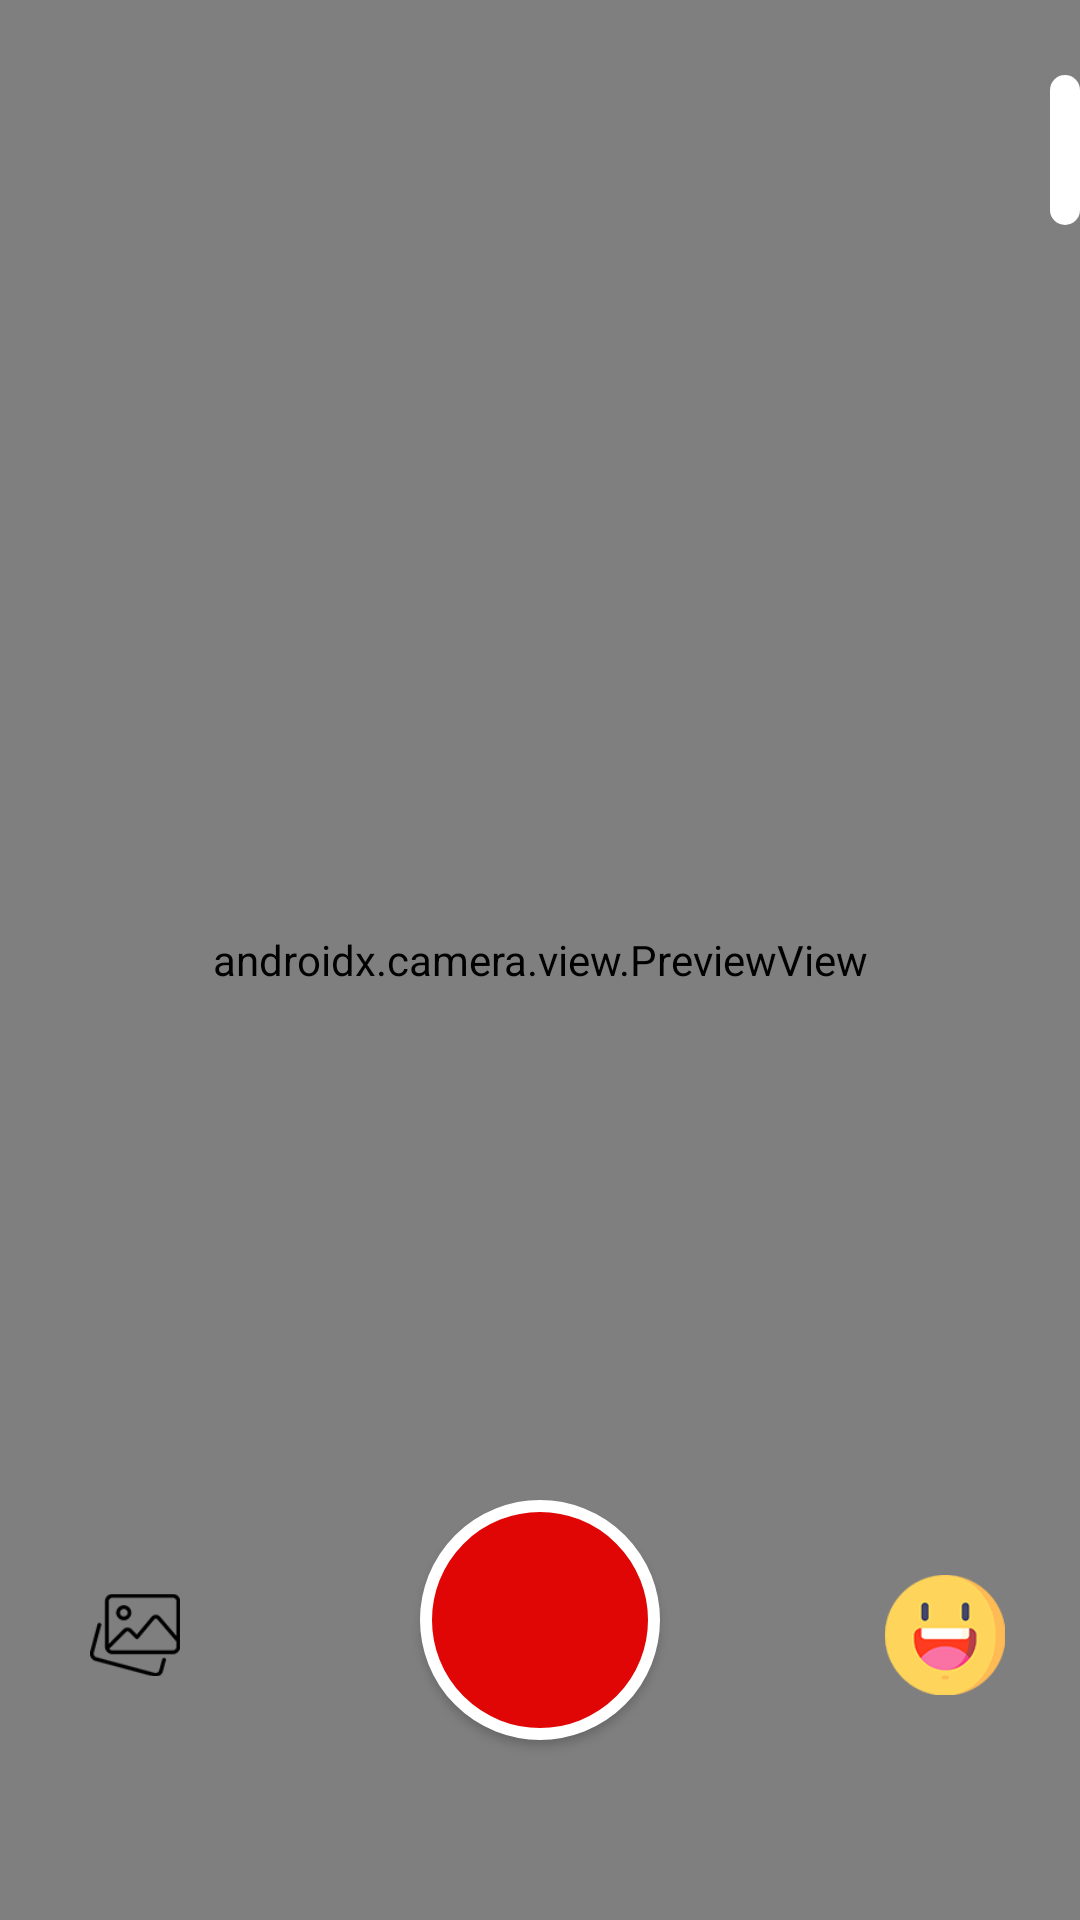

Icons on this 1080 × 1920 Android screen, each with the point to tap as [x,y]:
emoji: [945,1635]
gallery: [135,1635]
